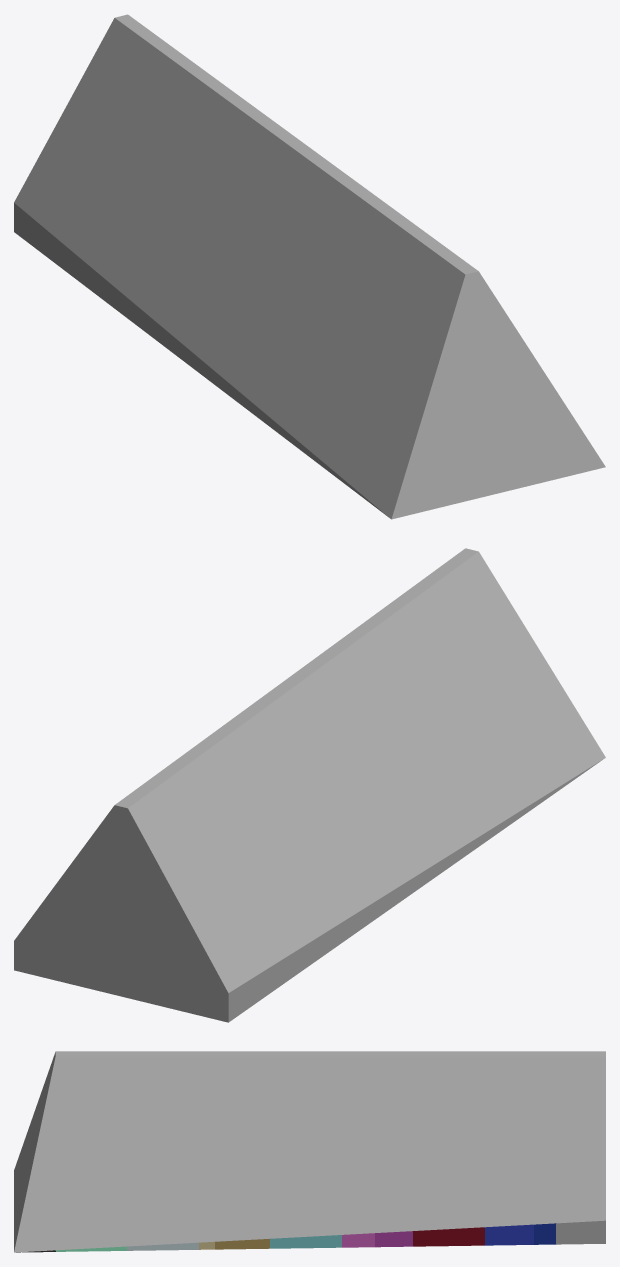
Rendered from weightsurfchunk.fbx.
3 renders of one model, top to bottom at view 1: azimuth 30°, elevation 25°; view 2: azimuth 150°, elevation 25°; view 3: azimuth 270°, elevation 25°, orthographic. The views are drawn at different scales.
Parts seen in each view (by area): view 1: WeightSurfChunk; view 2: WeightSurfChunk; view 3: WeightSurfChunk.
Part boxes in pixels (x1=…): WeightSurfChunk: x1=14, y1=14, x2=605, y2=519; WeightSurfChunk: x1=14, y1=548, x2=605, y2=1022; WeightSurfChunk: x1=14, y1=1051, x2=605, y2=1252.
Size of the model in its own units: 56.05 by 171 by 50.18.
